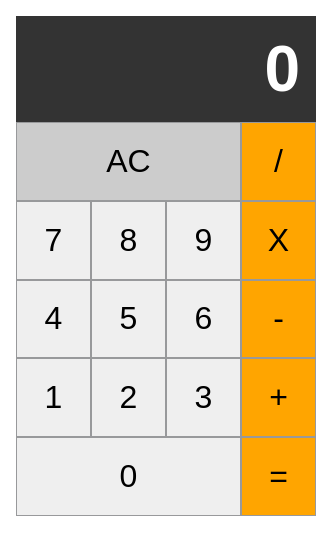
Test: test counter › changes total when number pad is clicked
Click the button "1" at (54, 398), box [16, 358, 91, 437]
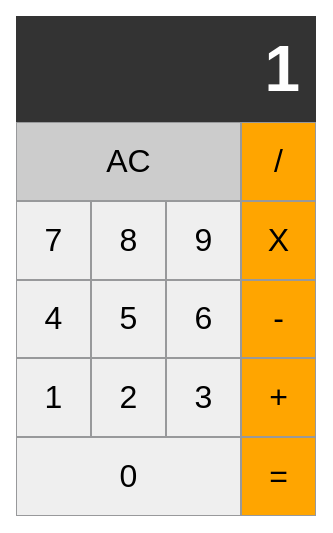
Now the heading with id "total" reads "1", box [16, 16, 316, 122]
